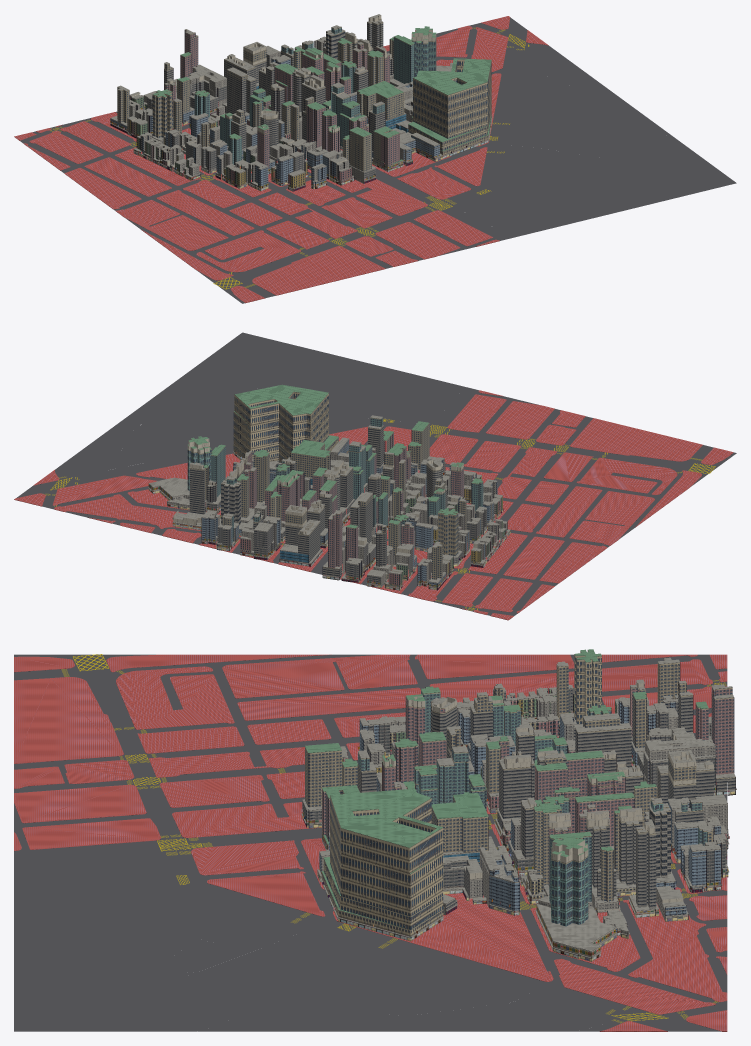
The picture shows the model from 3 angles, top to bottom: view 1: azimuth 30°, elevation 25°; view 2: azimuth 150°, elevation 25°; view 3: azimuth 270°, elevation 25°; orthographic projection. The views are drawn at different scales.
Visible parts, largest first — view 1: T19Dmap, B357531949801063C1, B356721957301063C0, B355371969601063C0, B357931966701063C0, B355811977001063C0, B357601966601063C0, B354031968201063C0, B355771946301063C0, B356851948501063C0, B355611955201063C0, B355241975001063C0 (+9 smaller); view 2: T19Dmap, B357531949801063C1, B355811977001063C0, B355131979501063C0, B356721957301063C0, B354031968201063C0, B355371969601063C0, B357541973001063C0, B357011973601063C0, B357931966701063C0, B358081967002063C0, B356251978601063C0 (+9 smaller); view 3: T19Dmap, B357531949801063C1, B357931966701063C0, B356721957301063C0, B358081967002063C0, B355131979501063C0, B355811977001063C0, B357281960401063C1, B355371969601063C0, B356011961901063C0, B355771946301063C0, B357541973001063C0 (+33 smaller).
Boxes of the visible parts, x1,y1,x2,y2 form: T19Dmap: (14,16,736,303); B357531949801063C1: (408,58,492,158); B356721957301063C0: (357,81,404,120); B355371969601063C0: (227,67,256,113); B357931966701063C0: (411,26,436,77); B355811977001063C0: (224,42,266,82); B357601966601063C0: (393,35,414,83); B354031968201063C0: (152,89,172,137); B355771946301063C0: (349,127,371,171); B356851948501063C0: (400,132,442,165); B355611955201063C0: (306,102,326,147); B355241975001063C0: (187,64,226,106); T19Dmap: (14,332,736,620); B357531949801063C1: (233,384,338,462); B355811977001063C0: (285,505,320,563); B355131979501063C0: (322,510,342,580); B356721957301063C0: (290,440,330,477); B354031968201063C0: (438,508,458,556); B355371969601063C0: (350,491,373,543); B357541973001063C0: (189,462,205,514); B357011973601063C0: (221,476,240,525); B357931966701063C0: (187,436,211,490); B358081967002063C0: (148,477,189,500); B356251978601063C0: (254,522,274,560); T19Dmap: (14,654,727,1031); B357531949801063C1: (320,789,443,941); B357931966701063C0: (551,835,588,926); B356721957301063C0: (431,792,488,852); B358081967002063C0: (535,903,617,961); B355131979501063C0: (711,684,736,795); B355811977001063C0: (657,750,714,803); B357281960401063C1: (479,845,520,915); B355371969601063C0: (575,713,631,767); B356011961901063C0: (499,751,534,818); B355771946301063C0: (305,743,341,807); B357541973001063C0: (636,819,656,908).
Size of the model in its own units: 752 by 93.2 by 608.
Materials: 5 (2 with a texture image).
